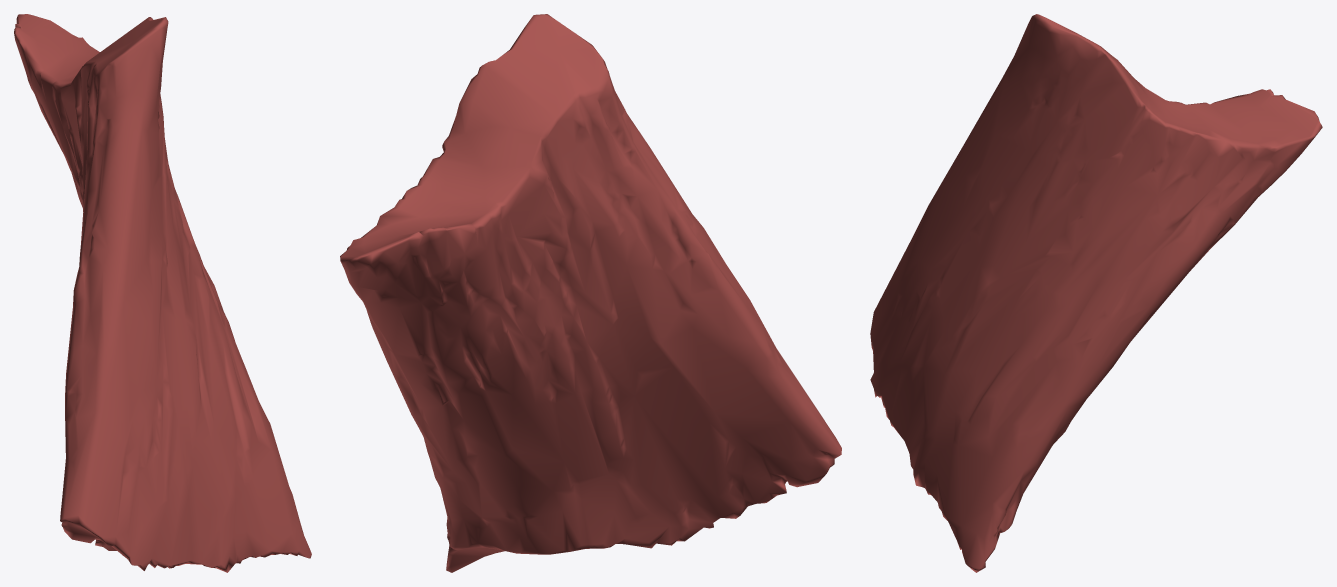
Rendered from FMA46318.glb.
3 renders of one model, left to right at view 1: azimuth 30°, elevation 25°; view 2: azimuth 150°, elevation 25°; view 3: azimuth 270°, elevation 25°, orthographic. The views are drawn at different scales.
Parts seen in each view (by area): view 1: FMA46318; view 2: FMA46318; view 3: FMA46318.
Part boxes in pixels (x1=…): FMA46318: x1=14, y1=14, x2=311, y2=572; FMA46318: x1=340, y1=14, x2=841, y2=572; FMA46318: x1=870, y1=14, x2=1322, y2=572.
Bounding box in the file's own units: 0.012 × 0.0208 × 0.0169.
